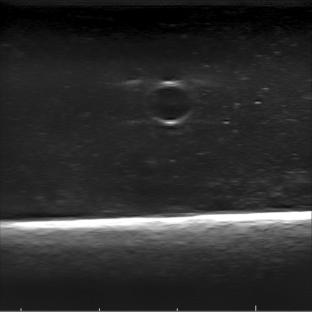vessel: (143, 80, 195, 125)
